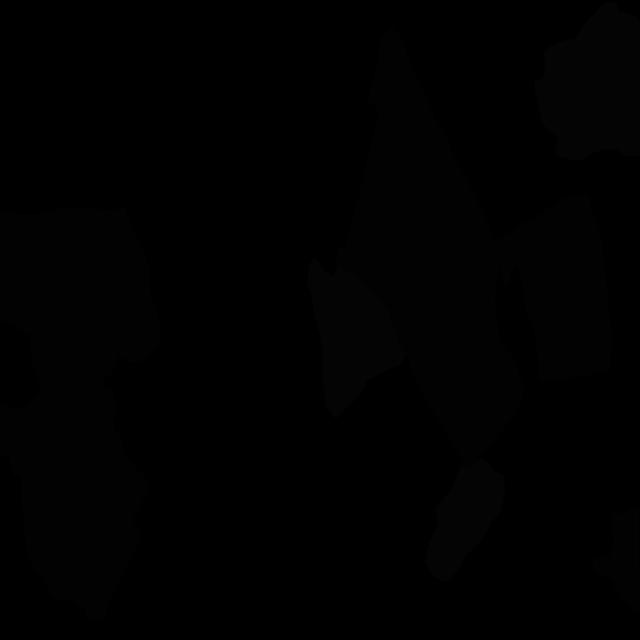cardboard: (336, 26, 524, 471), (0, 205, 162, 460), (7, 407, 142, 621), (493, 193, 612, 382), (63, 382, 148, 520), (592, 507, 640, 614)
soft_plastic: (534, 2, 640, 160), (306, 257, 406, 419), (425, 456, 505, 582)
